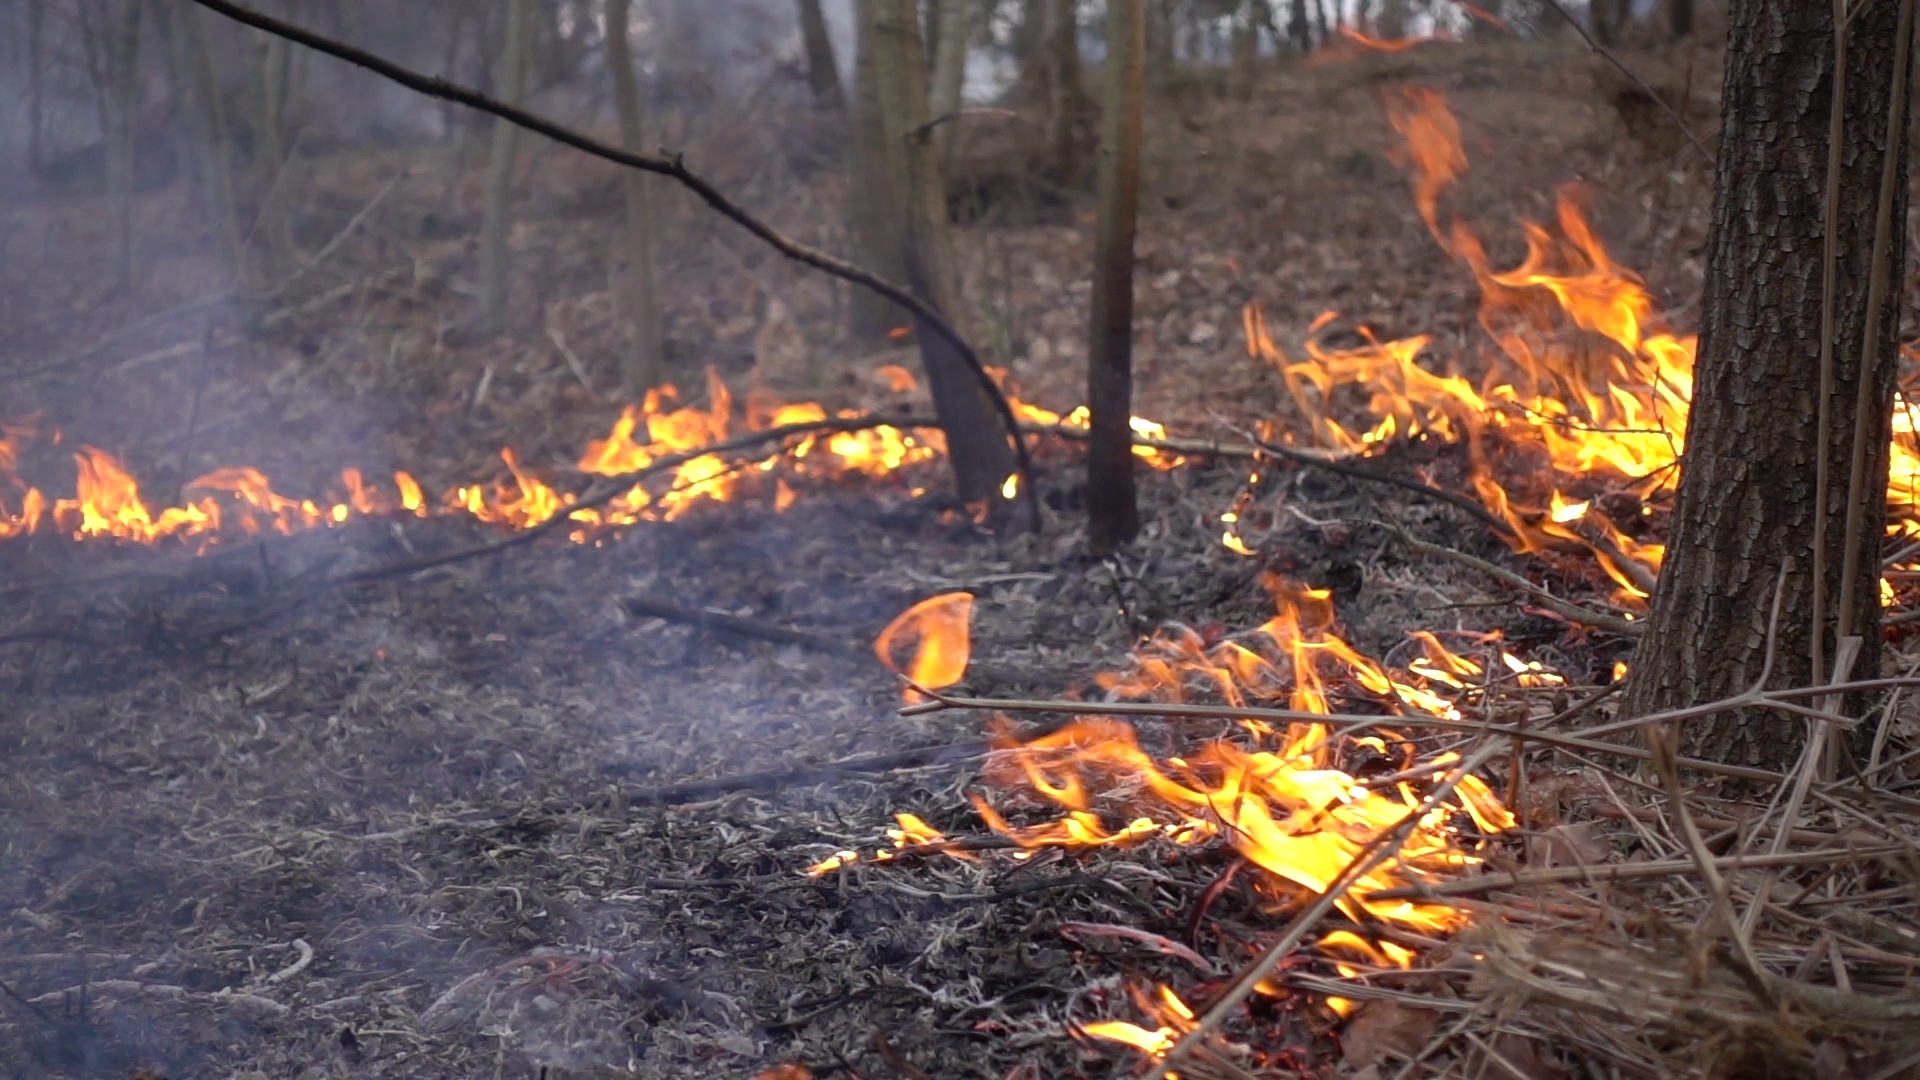fire: (977, 621, 1514, 973), (1276, 200, 1696, 582), (572, 380, 911, 525), (3, 465, 316, 535), (389, 459, 554, 531), (889, 587, 976, 692), (1887, 396, 1920, 502)
